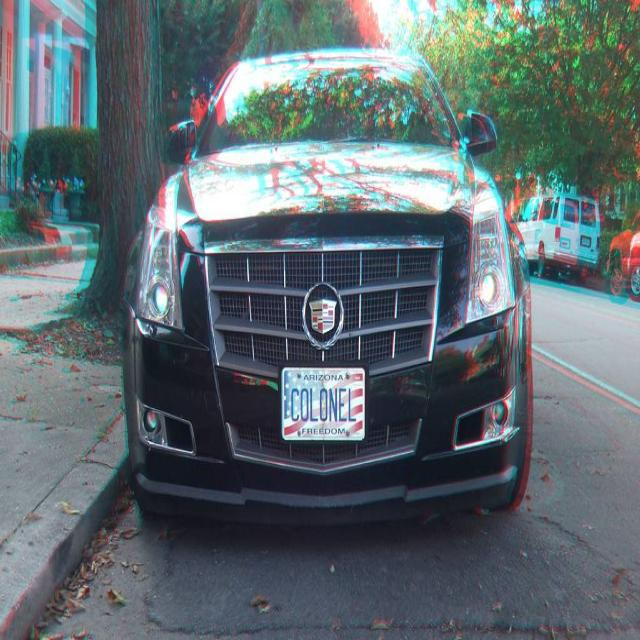car: (118, 44, 534, 512)
